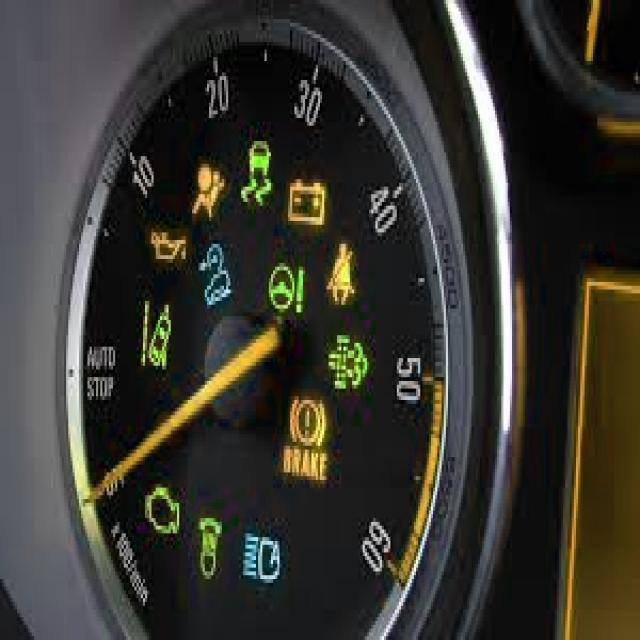Seat Belt: (325, 241, 356, 309)
